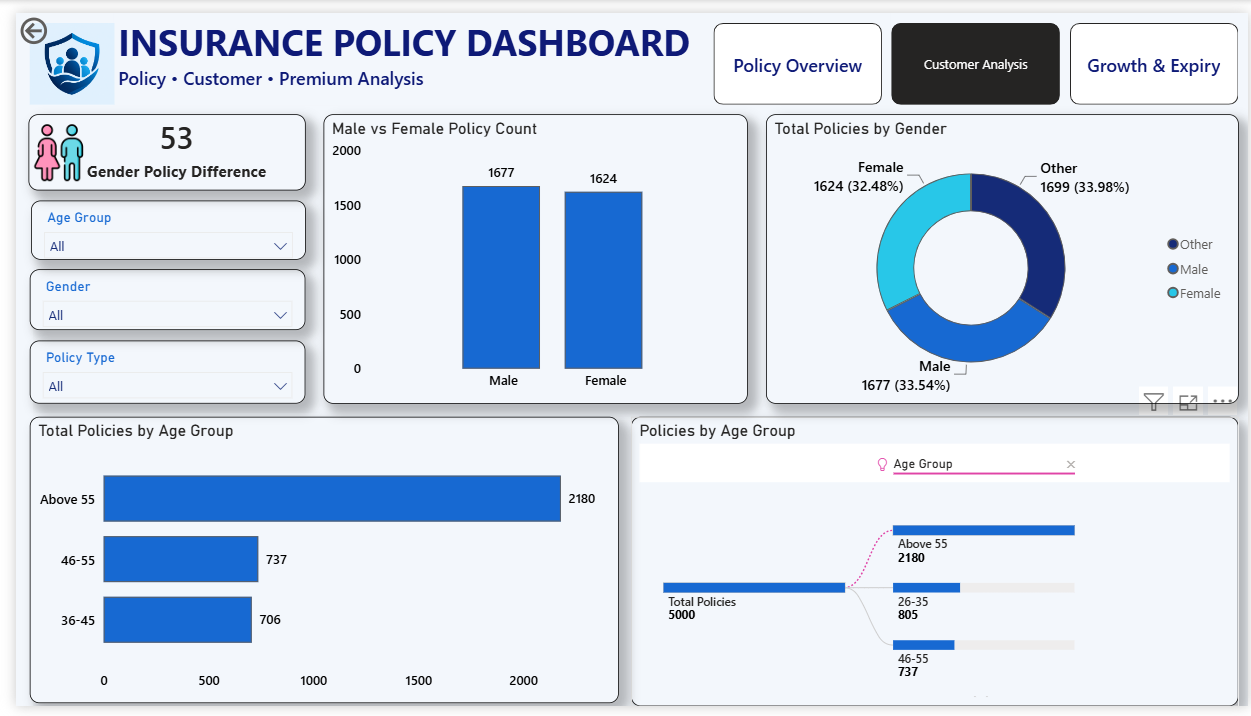

Layout of this report page (visuals, bound fields, positions):
{"tool":"powerbi","page":{"name":"Customer Analysis","canvas":[1280,720],"ordinal":1},"visuals":[{"type":"textbox","box":[101.5,0,806.9,96.1],"z":0},{"type":"image","box":[13.7,11,87.8,85.1],"z":1000},{"type":"pageNavigator","box":[724.5,11,546.1,85.1],"z":2000},{"type":"decompositionTreeVisual","title":" Policies by Age Group","fields":{"ExplainBy":["Customer Information.Age Group"],"Analyze":["Policy Details.Total Policies"]},"box":[639.5,419.9,631.2,300.5],"z":3000},{"type":"donutChart","fields":{"Category":["Customer Information.Gender"],"Y":["Policy Details.Total Policies"]},"box":[779.4,105.7,491.3,300.5],"z":4000},{"type":"barChart","fields":{"Y":["Policy Details.Total Policies"],"Category":["Customer Information.Age Group"]},"box":[13.7,419.9,612,297.8],"z":5000},{"type":"clusteredColumnChart","title":"Male vs Female Policy Count","fields":{"Category":["Customer Information.Gender"],"Y":["Policy Details.Total Policies"]},"box":[319.7,105.7,440.5,300.5],"z":6000},{"type":"slicer","fields":{"Values":["Customer Information.Age Group"]},"box":[15.1,194.9,285.4,61.7],"z":7000},{"type":"slicer","fields":{"Values":["Customer Information.Gender"]},"box":[13.7,266.2,286.8,63.1],"z":8000},{"type":"slicer","fields":{"Values":["Policy Details.Policy Type"]},"box":[13.7,340.3,286.8,65.9],"z":9000},{"type":"actionButton","box":[0,0,57.6,37],"z":10000},{"type":"card","fields":{"Values":["Customer Information.Gender Policy Difference"]},"box":[12.3,105.7,288.2,79.6],"z":11000},{"type":"image","box":[15.1,115.3,57.6,59],"z":12000}]}

Visuals, with their boxes in screenshot pixels (x1, y1, x2, y2), scaled from the page's 1280x720 canvas onto the 1251x716 screenshot:
textbox: 99,0,888,96
image: 13,11,99,96
pageNavigator: 708,11,1242,96
" Policies by Age Group" decompositionTreeVisual: 625,418,1242,715
donutChart - Customer Information.Gender x Policy Details.Total Policies: 762,105,1242,404
barChart - Policy Details.Total Policies x Customer Information.Age Group: 13,418,612,714
"Male vs Female Policy Count" clusteredColumnChart: 312,105,743,404
slicer - Customer Information.Age Group: 15,194,294,255
slicer - Customer Information.Gender: 13,265,294,327
slicer - Policy Details.Policy Type: 13,338,294,404
actionButton: 0,0,56,37
card - Customer Information.Gender Policy Difference: 12,105,294,184
image: 15,115,71,173
